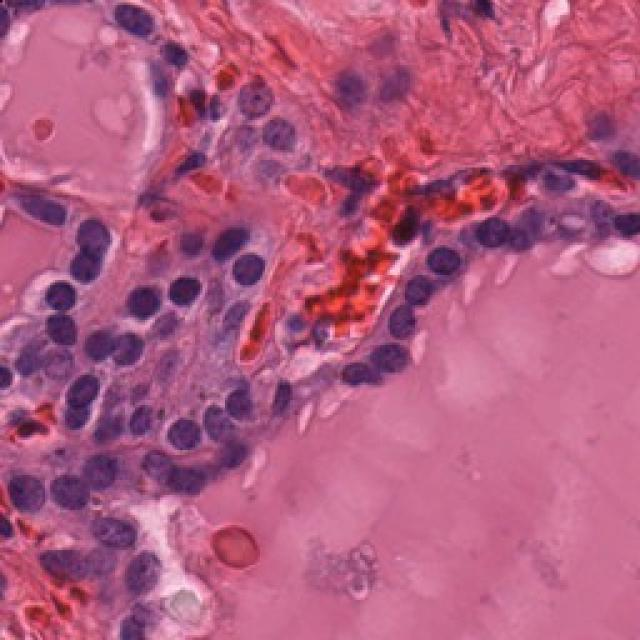normal: (108, 540, 182, 607), (377, 282, 448, 350), (353, 328, 425, 387), (47, 451, 103, 526), (98, 0, 176, 53), (55, 242, 120, 298), (155, 255, 205, 325), (50, 361, 108, 416), (27, 270, 88, 320), (120, 270, 177, 322), (148, 415, 208, 462), (417, 242, 473, 288), (221, 242, 271, 293), (332, 343, 375, 402)
